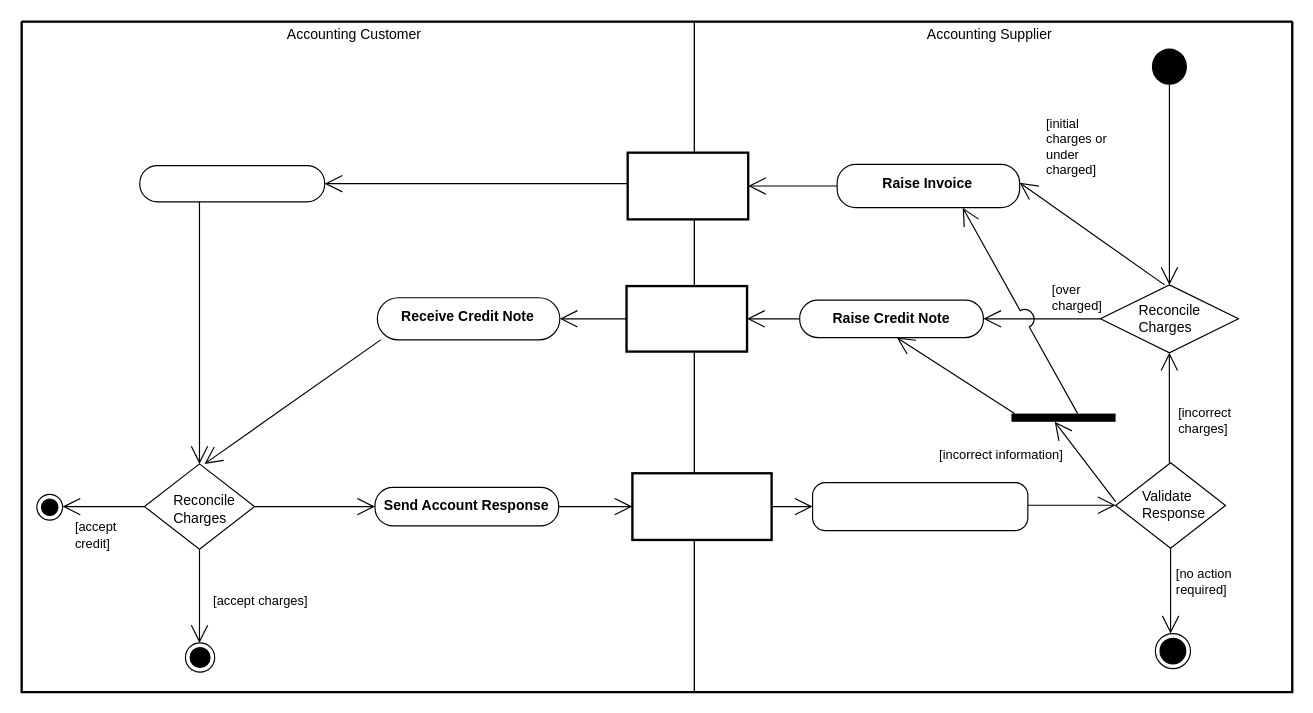
Image size: 1313x713. Some labels were removed from this diagram. The shapes that lost their labels are listed below. From the top down, each one's centre as x and y in pixels, then its label:
the point at 232,183: Receive Invoice
the point at 687,185: Invoice
the point at 686,318: Credit Note
the point at 701,506: Invoice Status Response
the point at 919,506: Receive Account Response
